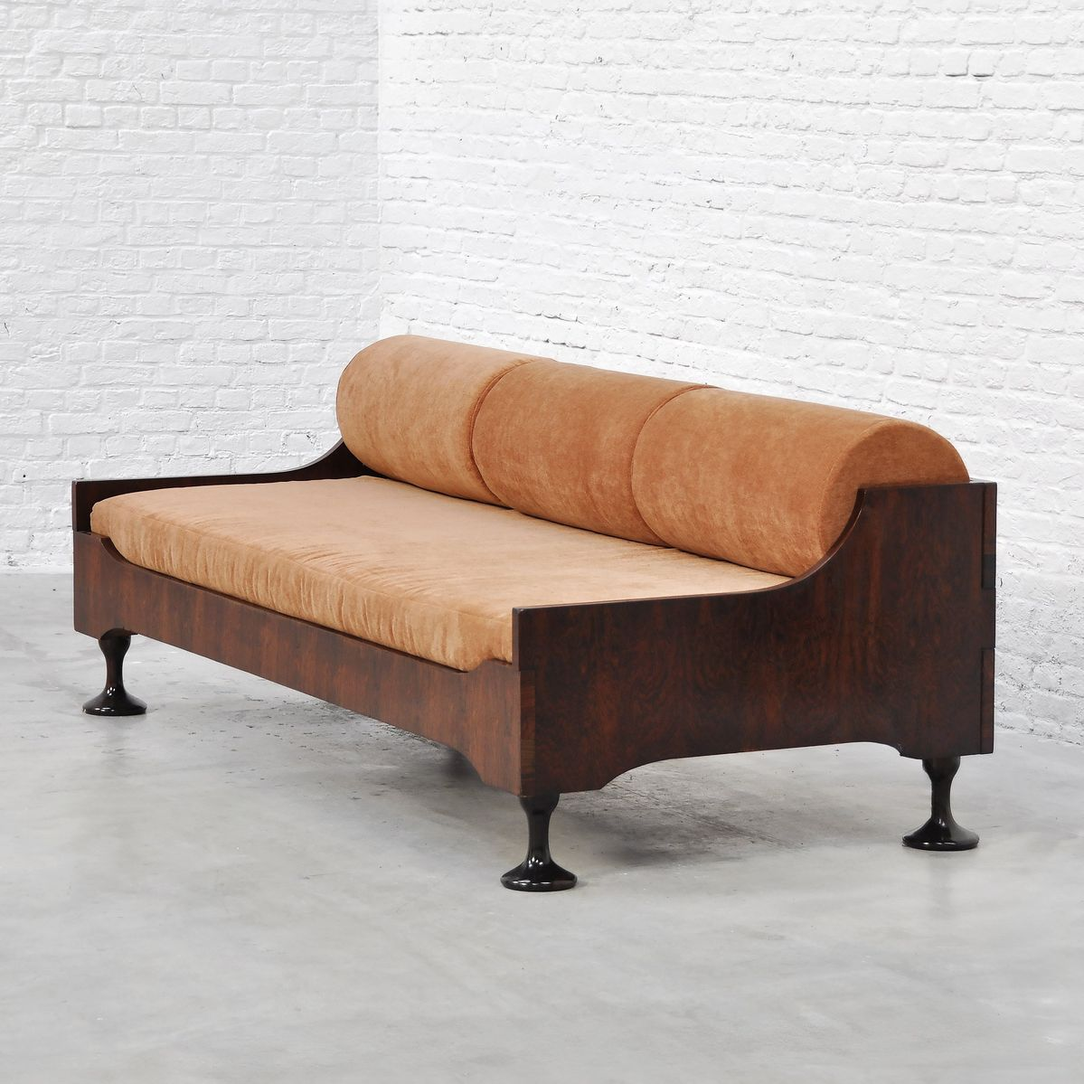3seatersofa: (73, 335, 995, 892)
backrest: (338, 336, 966, 574)
base: (74, 532, 533, 792)
leftarmrest: (515, 484, 994, 791)
leg: (502, 793, 574, 891), (903, 759, 977, 852), (83, 632, 145, 717)
rightarmrest: (73, 440, 372, 530)
seat: (93, 477, 786, 669)
